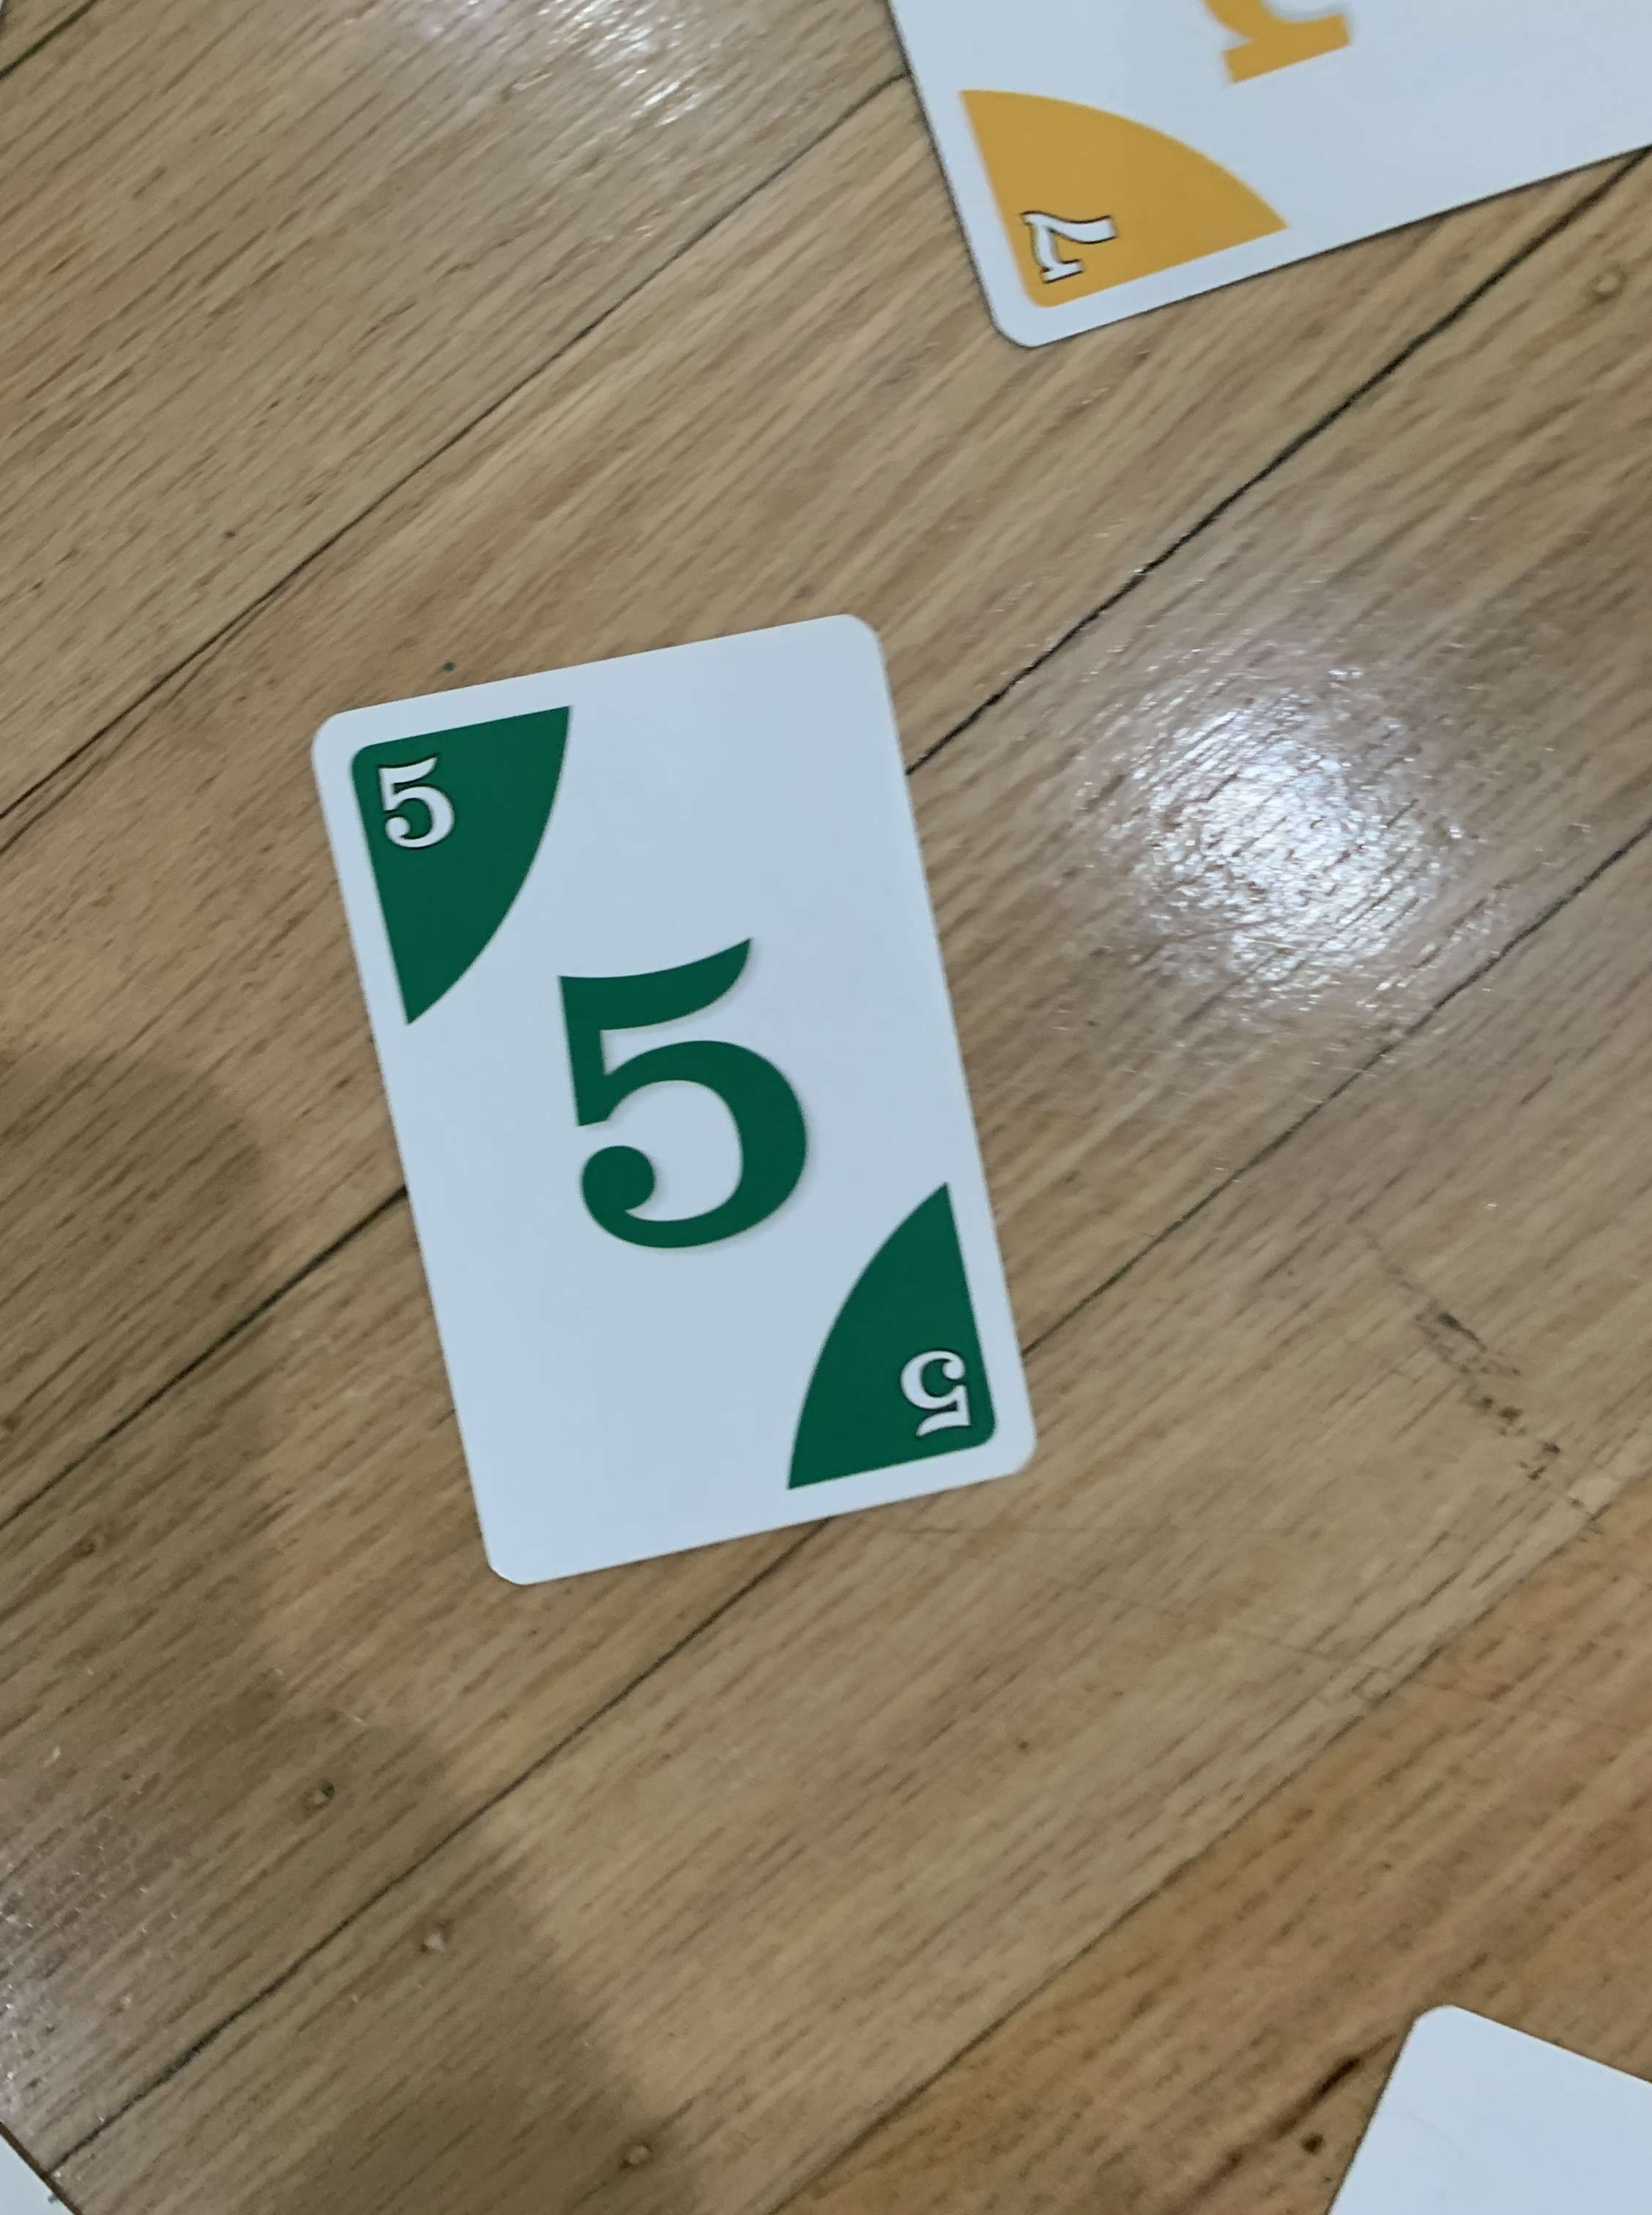five: (304, 609, 1046, 1587)
